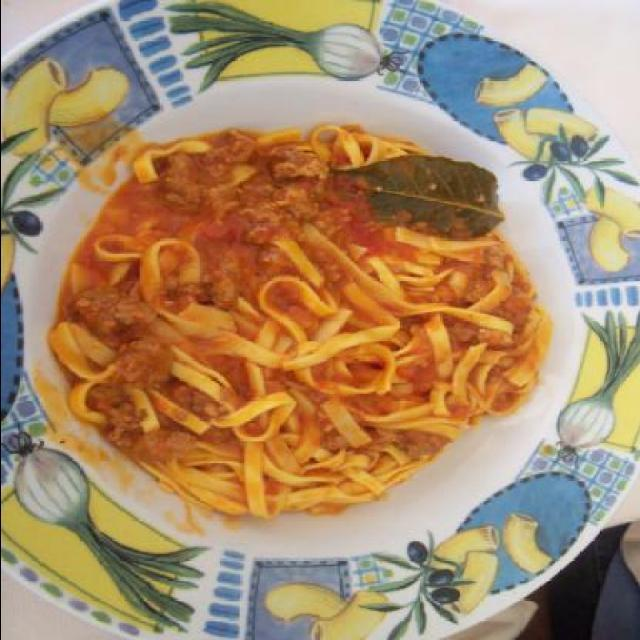Pasta al ragu: (56, 99, 572, 563)
